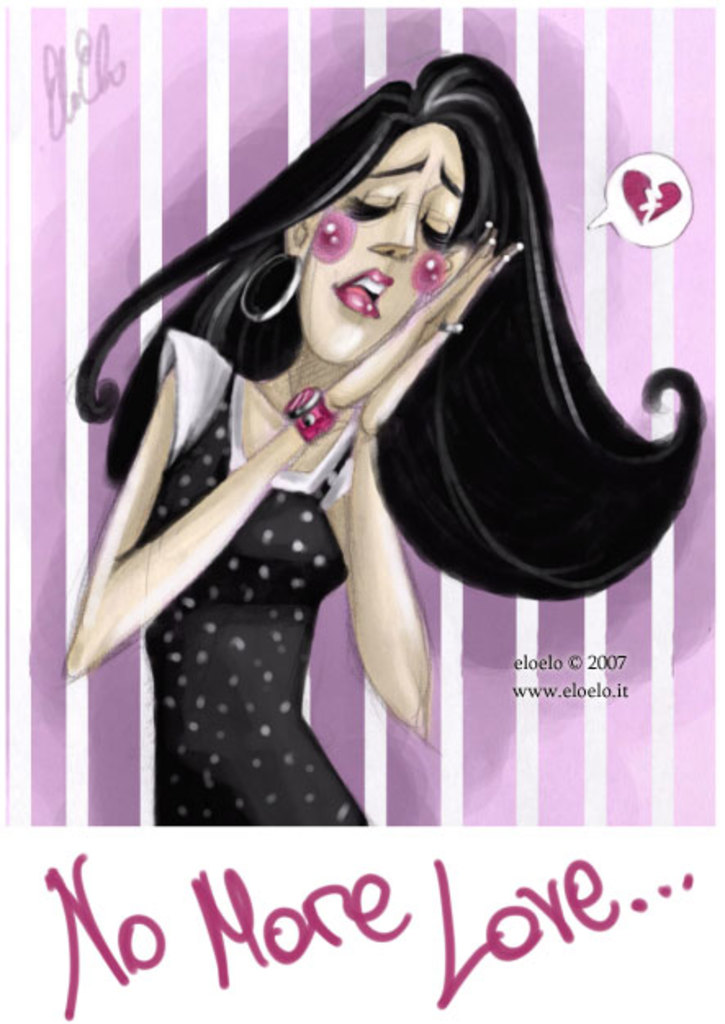face: (303, 108, 470, 379)
